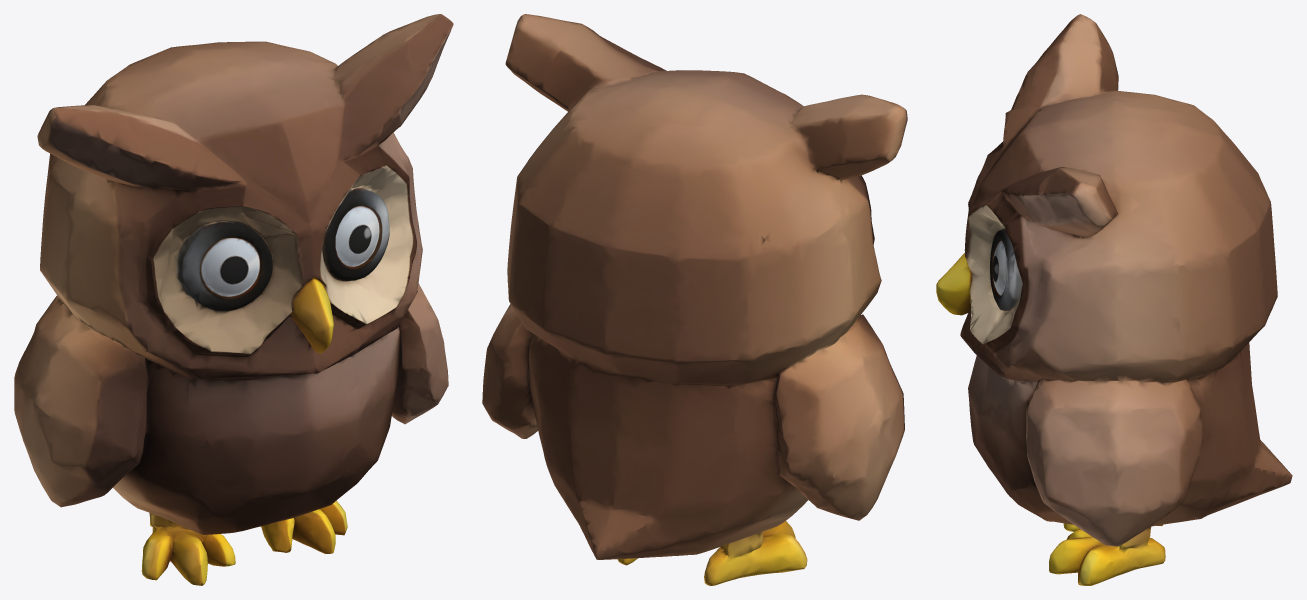
File: owl.glb
3 views of the same model, side by side, from view 1: azimuth 30°, elevation 25°; view 2: azimuth 150°, elevation 25°; view 3: azimuth 270°, elevation 25° (orthographic). The views are drawn at different scales.
Parts seen in each view (by area): view 1: tripo_node_95fbe2ac-fd10-4104-b14e-1c34454185ca; view 2: tripo_node_95fbe2ac-fd10-4104-b14e-1c34454185ca; view 3: tripo_node_95fbe2ac-fd10-4104-b14e-1c34454185ca.
Part boxes in pixels (x1,y1,x2,y2): tripo_node_95fbe2ac-fd10-4104-b14e-1c34454185ca: (14,14,453,585); tripo_node_95fbe2ac-fd10-4104-b14e-1c34454185ca: (482,14,907,585); tripo_node_95fbe2ac-fd10-4104-b14e-1c34454185ca: (936,14,1292,585).
Size of the model in its own units: 0.8435 by 1 by 0.7243.
Materials: 1 (1 with a texture image).
